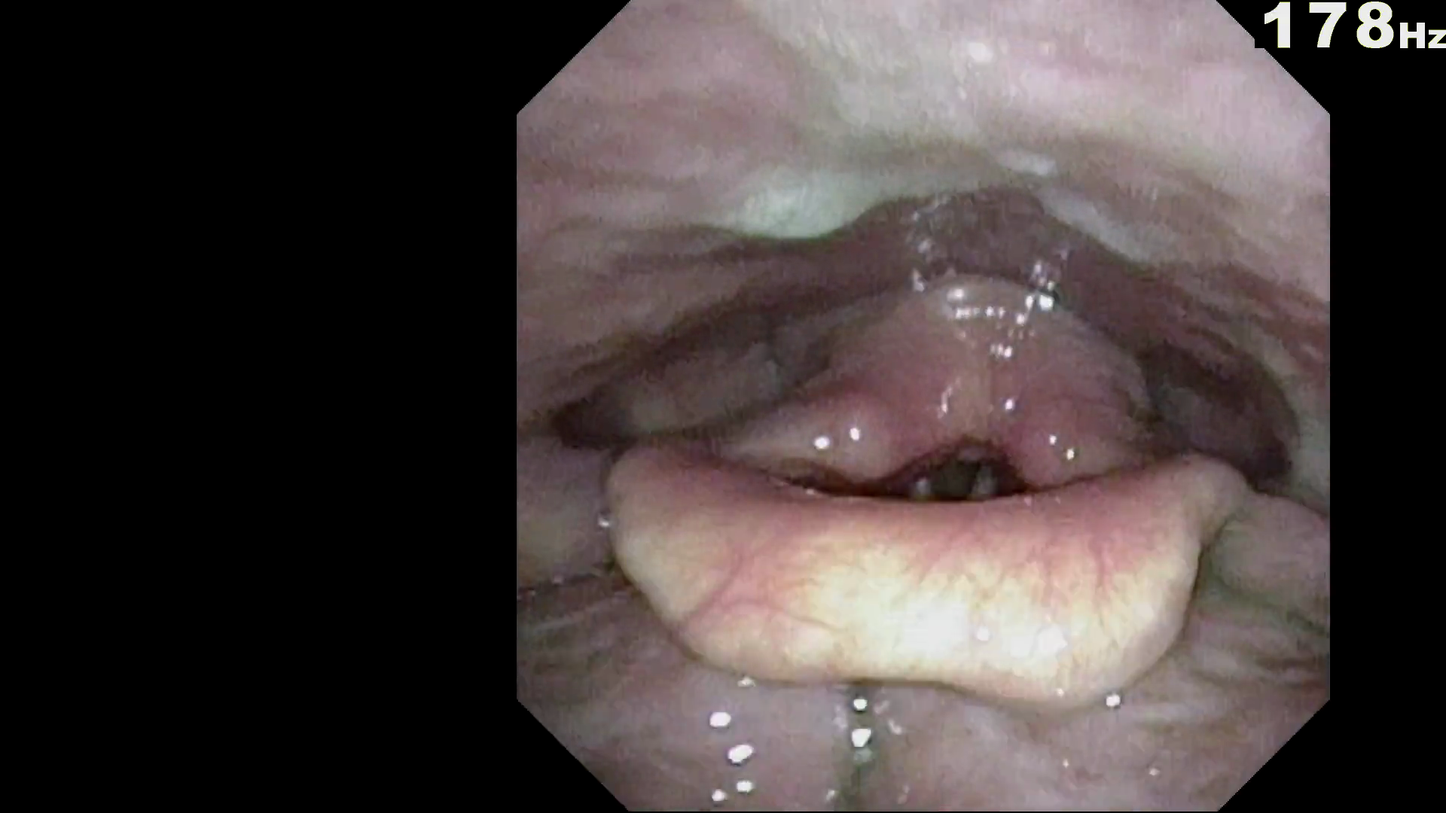epiglottis: (640, 489, 1184, 680)
trachea: (880, 441, 1034, 523)
